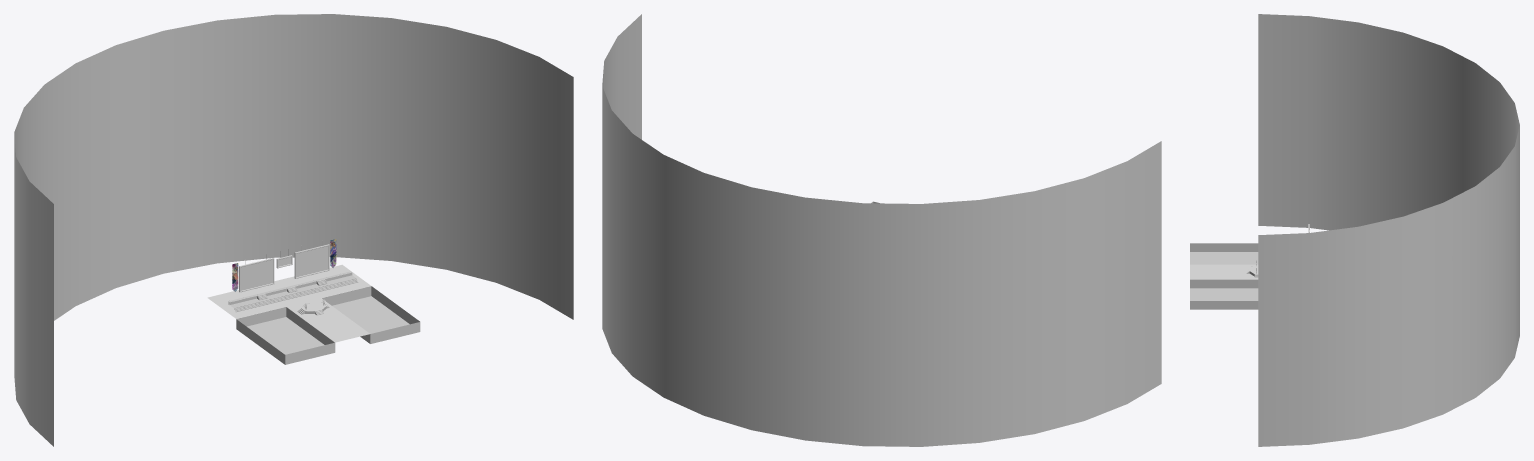
Rendered from EscenarioJuego.fbx.
3 views of the same model, side by side, from view 1: azimuth 30°, elevation 25°; view 2: azimuth 150°, elevation 25°; view 3: azimuth 270°, elevation 25° (orthographic). The views are drawn at different scales.
Visible parts, largest first — view 1: sm_wall, sm_floor, sm_stairs, sm_screen, sm_screen.001; view 2: sm_wall; view 3: sm_wall, sm_floor.
Boxes of the visible parts, x1=… form: sm_wall: x1=14, y1=14, x2=573, y2=446; sm_floor: x1=207, y1=264, x2=420, y2=364; sm_stairs: x1=228, y1=271, x2=358, y2=312; sm_screen: x1=239, y1=258, x2=274, y2=292; sm_screen.001: x1=294, y1=244, x2=329, y2=278; sm_wall: x1=602, y1=14, x2=1161, y2=446; sm_wall: x1=1258, y1=14, x2=1519, y2=446; sm_floor: x1=1190, y1=243, x2=1258, y2=309.
Size of the model in its own units: 15327 by 6845 by 9658.
